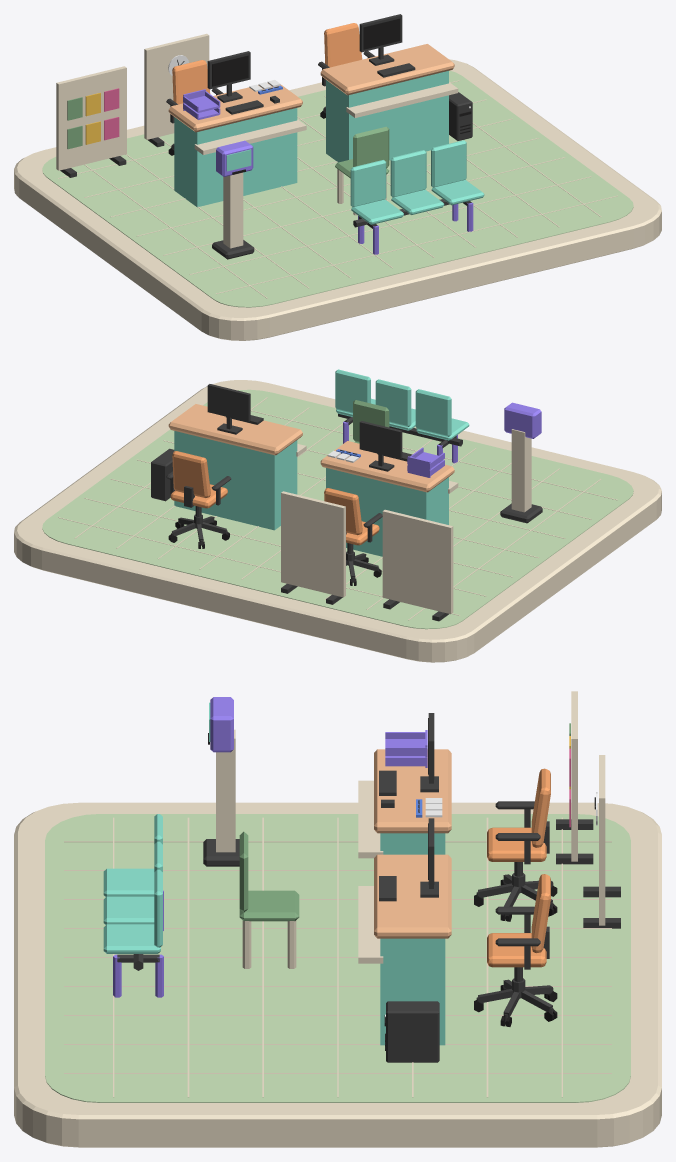
3 views of the same model, one above another, from view 1: azimuth 30°, elevation 25°; view 2: azimuth 150°, elevation 25°; view 3: azimuth 270°, elevation 25° (orthographic). The views are drawn at different scales.
Parts seen in each view (by area): view 1: COM-02 Floor Surface, COM-01 Rounded Base Direct, Counter body, Counter body.001, Panel, Panel.001, Countertop.001, Countertop, COM-04_Chair_blender_direct.001, Frame, Frame.001, Pedestal (+15 smaller); view 2: COM-02 Floor Surface, COM-01 Rounded Base Direct, Counter body.001, Panel, Panel.001, Counter body, COM-04_Chair_blender_direct.001, Countertop.001, Countertop, COM-04_Chair_blender_direct, Pedestal, Frame.001 (+8 smaller); view 3: COM-02 Floor Surface, COM-01 Rounded Base Direct, Countertop.001, COM-04_Chair_blender_direct.001, COM-04_Chair_blender_direct, Counter body.001, Countertop, Tower, Pedestal, Seat.003, Seat.002, Seat (+15 smaller).
Part boxes in pixels (bbox=[...]): COM-02 Floor Surface: bbox=[42, 70, 633, 307]; COM-01 Rounded Base Direct: bbox=[14, 59, 661, 340]; Counter body: bbox=[174, 108, 297, 207]; Counter body.001: bbox=[326, 71, 448, 162]; Panel: bbox=[56, 66, 126, 170]; Panel.001: bbox=[144, 33, 209, 139]; Countertop.001: bbox=[320, 44, 454, 95]; Countertop: bbox=[168, 83, 302, 132]; COM-04_Chair_blender_direct.001: bbox=[318, 23, 375, 118]; Frame: bbox=[207, 51, 250, 102]; Frame.001: bbox=[359, 14, 402, 65]; Pedestal: bbox=[223, 172, 243, 248]; COM-02 Floor Surface: bbox=[42, 389, 633, 629]; COM-01 Rounded Base Direct: bbox=[14, 380, 661, 662]; Counter body.001: bbox=[174, 431, 297, 530]; Panel: bbox=[382, 509, 453, 614]; Panel.001: bbox=[281, 491, 345, 597]; Counter body: bbox=[326, 468, 448, 556]; COM-04_Chair_blender_direct.001: bbox=[166, 451, 231, 548]; Countertop.001: bbox=[168, 404, 302, 455]; Countertop: bbox=[320, 441, 454, 492]; COM-04_Chair_blender_direct: bbox=[324, 488, 382, 585]; Pedestal: bbox=[511, 429, 531, 512]; Frame.001: bbox=[207, 384, 250, 434]; COM-02 Floor Surface: bbox=[45, 814, 630, 1102]; COM-01 Rounded Base Direct: bbox=[14, 802, 661, 1147]; Countertop.001: bbox=[374, 854, 451, 938]; COM-04_Chair_blender_direct.001: bbox=[474, 874, 557, 1026]; COM-04_Chair_blender_direct: bbox=[474, 768, 557, 921]; Counter body.001: bbox=[380, 938, 445, 1045]; Countertop: bbox=[374, 749, 451, 833]; Tower: bbox=[386, 1001, 439, 1062]; Pedestal: bbox=[216, 729, 235, 852]; Seat.003: bbox=[239, 890, 299, 921]; Seat.002: bbox=[103, 924, 160, 953]; Seat: bbox=[103, 868, 154, 896].
Size of the model in its own units: 6 by 1.87 by 5.2.
1 material, 1 textured.
